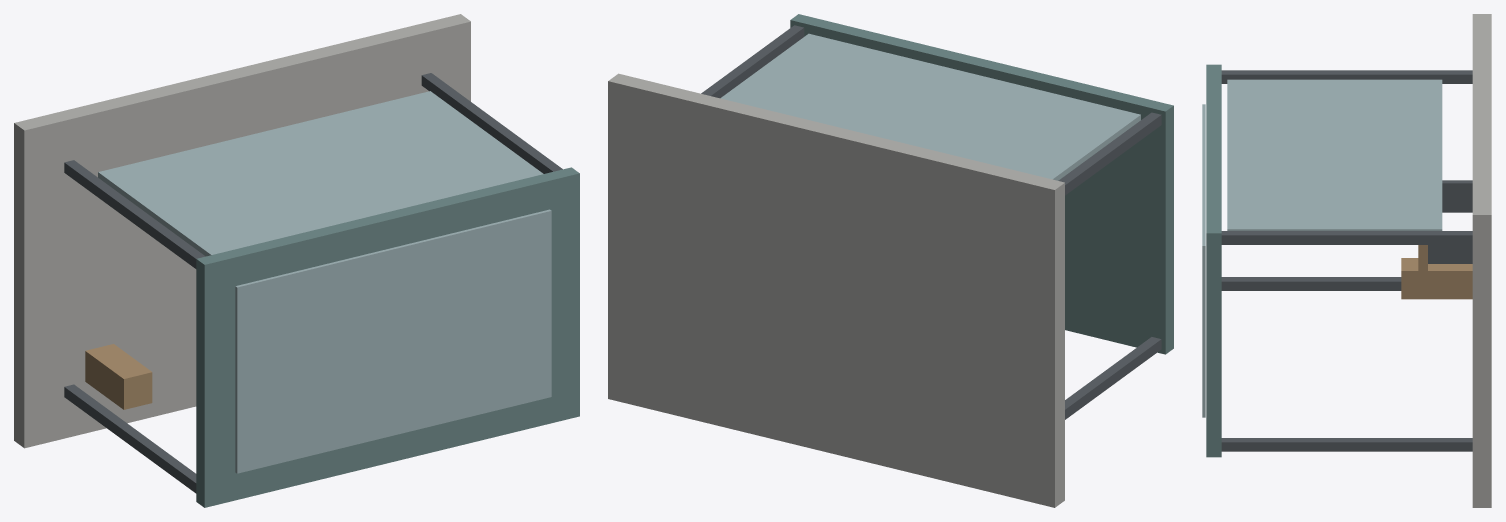
Rendered from small_bus_shelter.glb.
3 views of the same model, side by side, from view 1: azimuth 30°, elevation 25°; view 2: azimuth 150°, elevation 25°; view 3: azimuth 270°, elevation 25° (orthographic). The views are drawn at different scales.
Parts seen in each view (by area): view 1: 0000_Paving_slab, 0006_Roof_glazing, 0007_Back_glass, 0005_Shelter_roof, 0014_Waste_bin, 0002_Shelter_post, 0001_Shelter_post, 0004_Shelter_post; view 2: 0000_Paving_slab, 0007_Back_glass, 0005_Shelter_roof, 0002_Shelter_post, 0001_Shelter_post, 0004_Shelter_post; view 3: 0007_Back_glass, 0000_Paving_slab, 0005_Shelter_roof, 0003_Shelter_post, 0004_Shelter_post, 0002_Shelter_post, 0014_Waste_bin, 0001_Shelter_post, 0006_Roof_glazing, 0010_Bench_leg, 0011_Bench_leg.
Part boxes in pixels (left/top/right/bottom): 0000_Paving_slab: left=14, top=14, right=470, bottom=448; 0006_Roof_glazing: left=235, top=209, right=551, bottom=473; 0007_Back_glass: left=98, top=91, right=543, bottom=256; 0005_Shelter_roof: left=196, top=167, right=579, bottom=507; 0014_Waste_bin: left=85, top=344, right=152, bottom=409; 0002_Shelter_post: left=64, top=160, right=205, bottom=268; 0001_Shelter_post: left=64, top=384, right=196, bottom=493; 0004_Shelter_post: left=421, top=73, right=562, bottom=173; 0000_Paving_slab: left=608, top=73, right=1064, bottom=507; 0007_Back_glass: left=720, top=33, right=1140, bottom=180; 0005_Shelter_roof: left=790, top=14, right=1173, bottom=354; 0002_Shelter_post: left=1058, top=112, right=1161, bottom=195; 0001_Shelter_post: left=1065, top=337, right=1161, bottom=419; 0004_Shelter_post: left=701, top=25, right=804, bottom=98; 0007_Back_glass: left=1227, top=79, right=1442, bottom=230; 0000_Paving_slab: left=1472, top=14, right=1491, bottom=507; 0005_Shelter_roof: left=1206, top=64, right=1221, bottom=457; 0003_Shelter_post: left=1221, top=438, right=1472, bottom=451; 0004_Shelter_post: left=1221, top=231, right=1472, bottom=244; 0002_Shelter_post: left=1221, top=70, right=1472, bottom=83; 0014_Waste_bin: left=1401, top=258, right=1472, bottom=299; 0001_Shelter_post: left=1221, top=277, right=1401, bottom=290; 0006_Roof_glazing: left=1202, top=104, right=1205, bottom=417; 0010_Bench_leg: left=1442, top=180, right=1472, bottom=212; 0011_Bench_leg: left=1428, top=245, right=1472, bottom=263.
Bounding box in the file's own units: 5 × 3.4 × 3.04.
